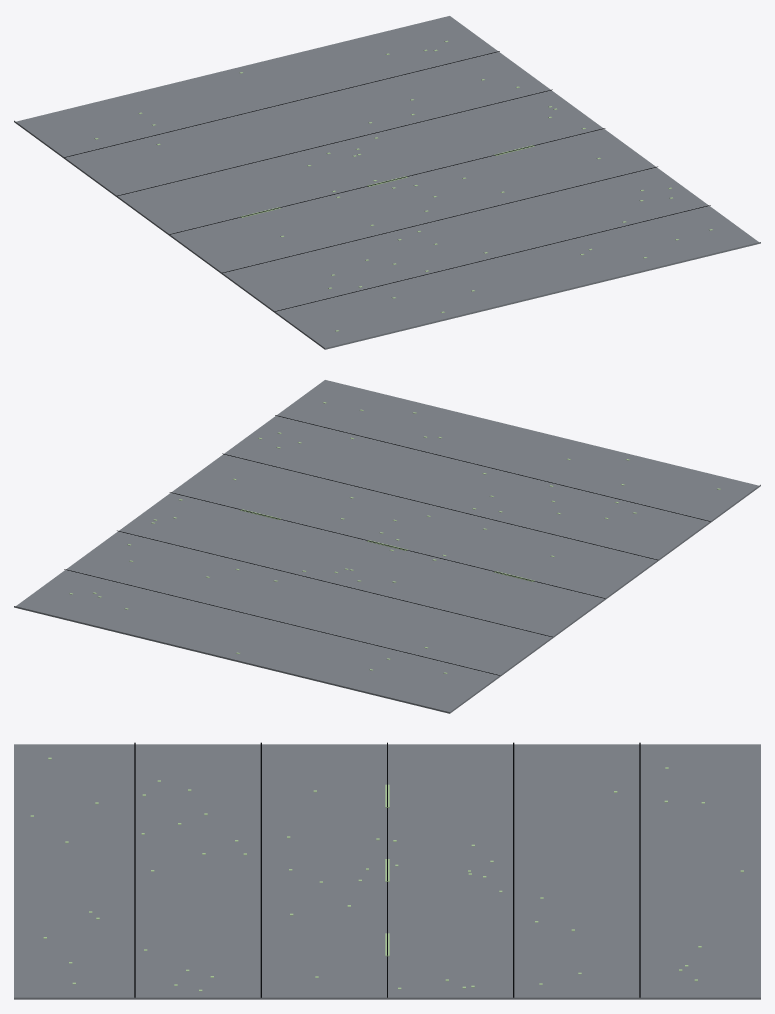
The model's file is v2_kelp_floor.glb.
3 views of the same model, one above another, from view 1: azimuth 30°, elevation 25°; view 2: azimuth 150°, elevation 25°; view 3: azimuth 270°, elevation 25° (orthographic). The views are drawn at different scales.
Parts seen in each view (by area): view 1: Terrazzo, Joint_Lines; view 2: Terrazzo, Joint_Lines; view 3: Terrazzo, Joint_Lines, Terrazzo_Chips.
Part boxes in pixels (x1=…): Terrazzo: x1=14, y1=16, x2=760, y2=349; Joint_Lines: x1=64, y1=51, x2=710, y2=311; Terrazzo: x1=14, y1=380, x2=760, y2=713; Joint_Lines: x1=64, y1=415, x2=710, y2=675; Terrazzo: x1=14, y1=744, x2=760, y2=999; Joint_Lines: x1=134, y1=742, x2=640, y2=997; Terrazzo_Chips: x1=30, y1=757, x2=743, y2=991.
Size of what is drawn, in the model's own units: 5.5 by 0.022 by 6.8.
Materials: 3 (1 with a texture image).
